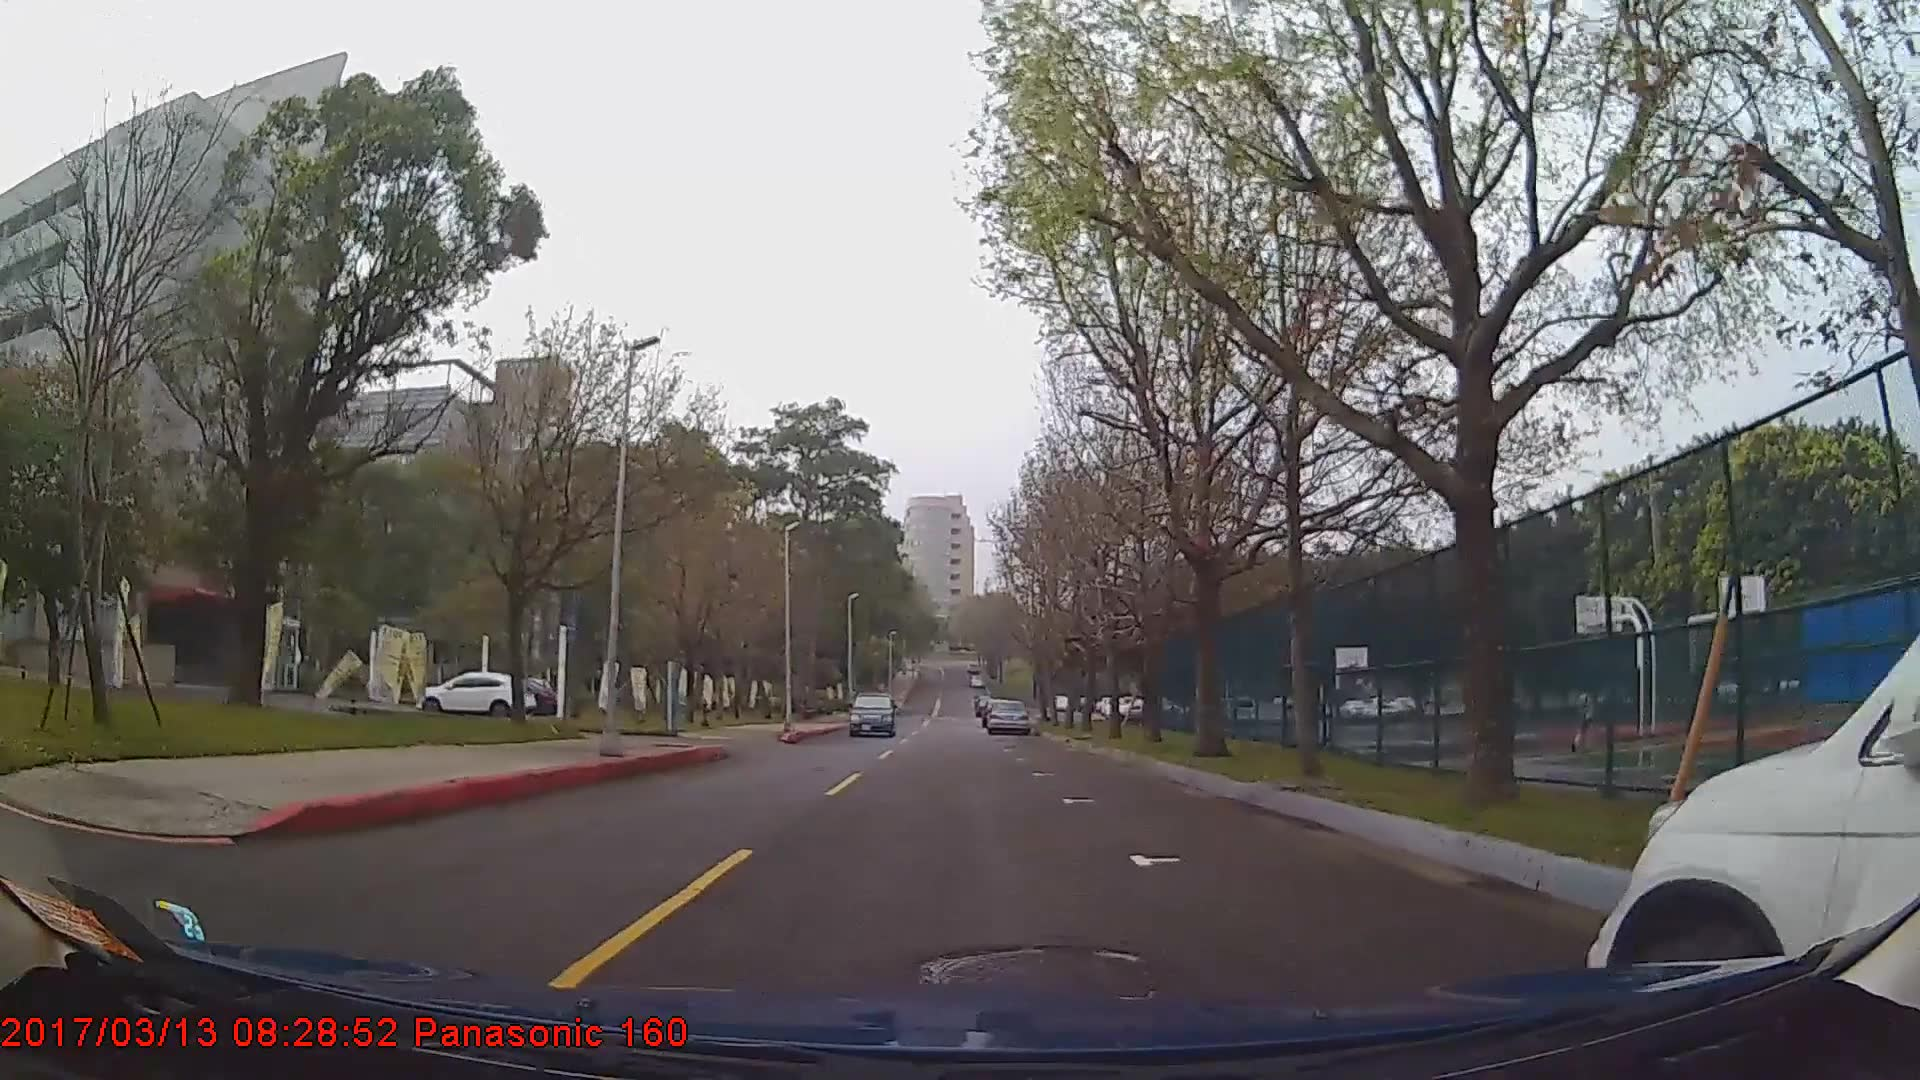vehicle: (1582, 624, 1920, 1063), (415, 669, 535, 716), (848, 688, 895, 737), (986, 698, 1031, 737)
